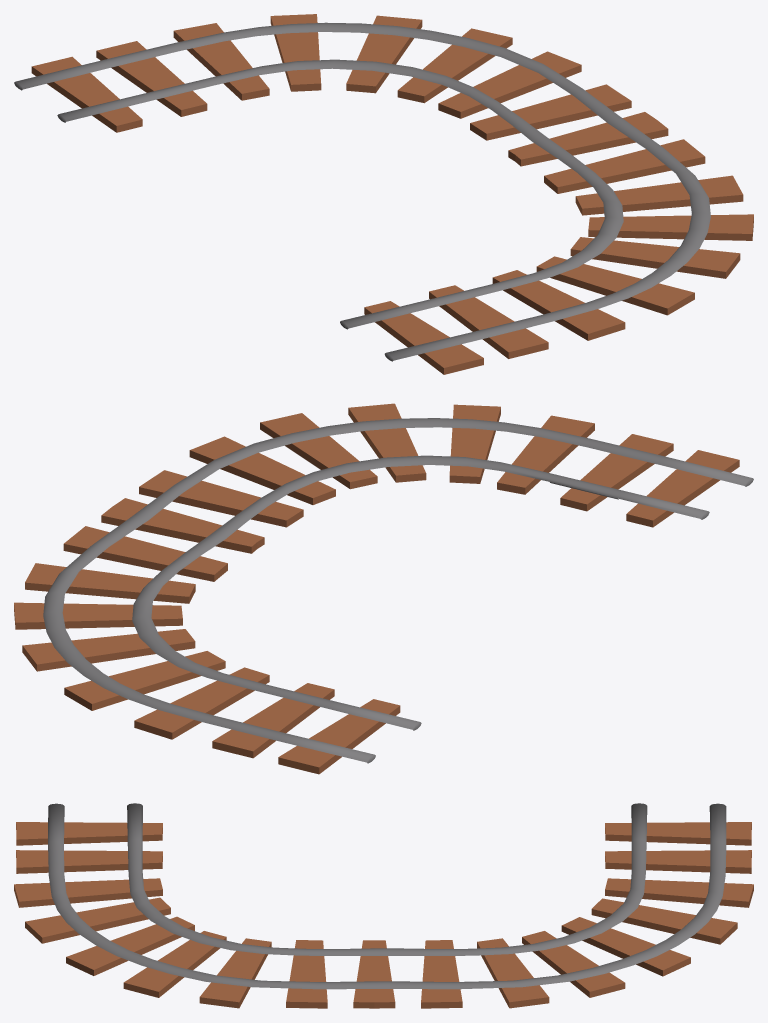
The model's file is Trail _Half.fbx.
The picture shows the model from 3 angles, top to bottom: view 1: azimuth 30°, elevation 25°; view 2: azimuth 150°, elevation 25°; view 3: azimuth 270°, elevation 25°; orthographic projection. The views are drawn at different scales.
Parts seen in each view (by area): view 1: Trail _Half; view 2: Trail _Half; view 3: Trail _Half.
Boxes of the visible parts, box(x1,y1,x2,y2) form: Trail _Half: box(14, 14, 753, 374); Trail _Half: box(14, 403, 753, 774); Trail _Half: box(14, 803, 753, 1008).
Bounding box in the file's own units: 572 × 14.33 × 919.
